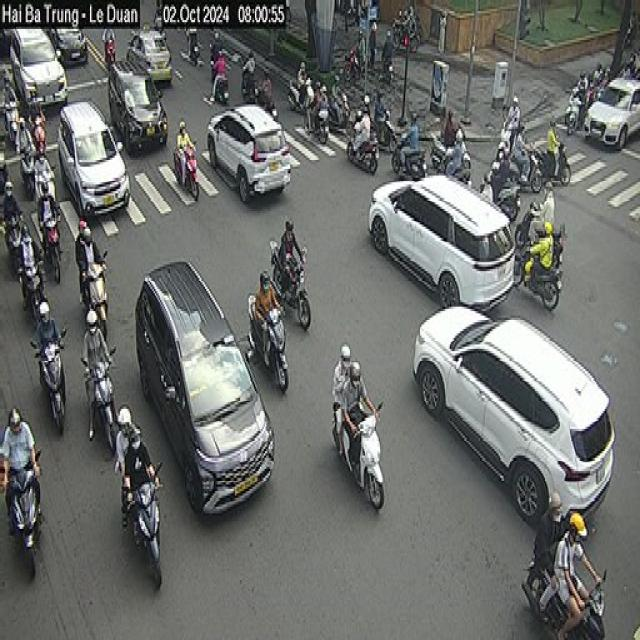car: (406, 299, 618, 546), (124, 255, 276, 524), (375, 136, 516, 320), (52, 108, 141, 225), (202, 103, 296, 209), (106, 48, 168, 156), (8, 37, 66, 132), (587, 73, 640, 146), (125, 26, 182, 81), (49, 30, 92, 68)
motorcycle: (0, 462, 54, 600), (337, 398, 392, 512), (527, 566, 604, 640), (118, 478, 164, 600), (242, 294, 287, 391), (267, 247, 315, 335), (29, 346, 72, 436), (76, 273, 118, 341), (88, 361, 118, 455), (510, 268, 561, 308), (170, 148, 206, 202), (22, 257, 43, 336), (516, 209, 556, 250), (293, 108, 335, 146), (42, 222, 65, 290), (391, 138, 428, 180), (532, 150, 572, 184), (2, 224, 26, 278), (345, 132, 382, 167), (434, 131, 462, 170), (344, 52, 371, 85), (571, 98, 594, 135), (492, 179, 518, 209), (291, 81, 315, 110), (394, 25, 424, 48), (185, 38, 205, 69), (563, 96, 587, 118), (241, 73, 258, 103), (382, 56, 400, 84), (210, 72, 229, 97), (266, 101, 286, 120), (234, 391, 234, 392)
person: (554, 505, 598, 636), (123, 426, 161, 539), (106, 401, 144, 507), (540, 489, 568, 631), (331, 336, 365, 451), (1, 412, 42, 506), (346, 362, 374, 486), (250, 269, 282, 375), (79, 306, 115, 400), (29, 299, 56, 374), (277, 220, 301, 304), (494, 132, 515, 209), (17, 227, 39, 293), (78, 224, 102, 284), (179, 116, 200, 183), (528, 225, 558, 268), (70, 212, 90, 276), (541, 112, 561, 170), (513, 128, 533, 178), (449, 118, 466, 176), (402, 111, 421, 162), (538, 186, 556, 238), (36, 178, 54, 230), (14, 114, 28, 180), (500, 97, 521, 140), (437, 104, 455, 150), (30, 86, 48, 132), (29, 153, 54, 186), (372, 90, 390, 134), (1, 80, 21, 118), (2, 183, 16, 235), (332, 76, 344, 132), (401, 8, 421, 40), (312, 77, 323, 135), (297, 59, 309, 110), (359, 102, 370, 152), (258, 67, 272, 106), (214, 52, 225, 98), (368, 20, 376, 80), (243, 50, 257, 84), (210, 36, 225, 66), (319, 89, 330, 129), (626, 51, 640, 81), (98, 28, 114, 52), (186, 29, 201, 52), (594, 60, 605, 88), (576, 64, 586, 90), (602, 68, 613, 84), (580, 85, 588, 106), (155, 0, 162, 16)
